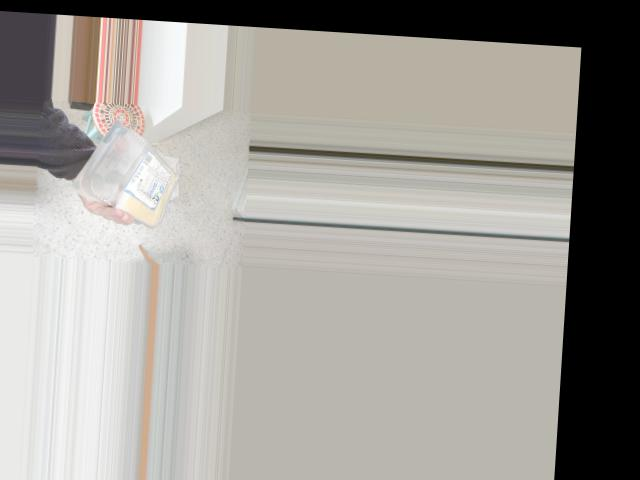cheese: (78, 117, 190, 216)
